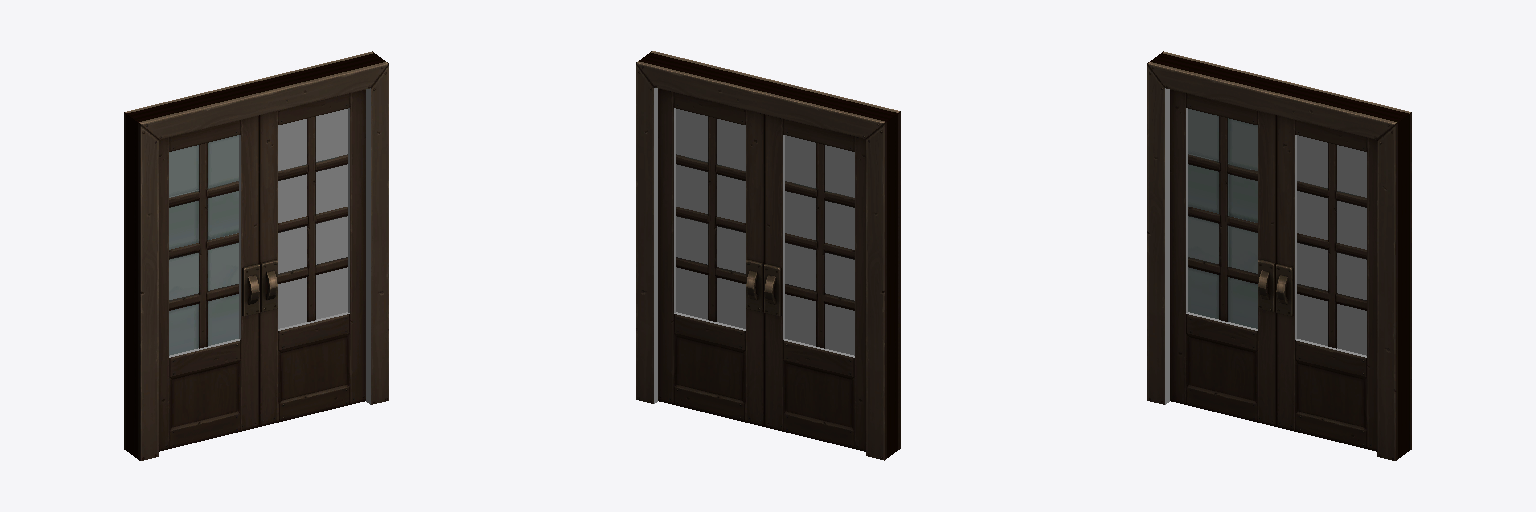
3 views of the same model, side by side, from view 1: azimuth 30°, elevation 25°; view 2: azimuth 150°, elevation 25°; view 3: azimuth 330°, elevation 25° (orthographic).
Visible parts, largest first — view 1: s4studio_mesh_1, s4studio_mesh_8, s4studio_mesh_6, s4studio_mesh_2, s4studio_mesh_0; view 2: s4studio_mesh_2, s4studio_mesh_7, s4studio_mesh_5, s4studio_mesh_1, s4studio_mesh_0; view 3: s4studio_mesh_1, s4studio_mesh_6, s4studio_mesh_8, s4studio_mesh_2, s4studio_mesh_0.
Boxes of the visible parts, x1,y1,x2,y2 form: s4studio_mesh_1: [132, 57, 388, 460]; s4studio_mesh_8: [169, 135, 238, 355]; s4studio_mesh_6: [278, 109, 347, 328]; s4studio_mesh_2: [124, 51, 378, 454]; s4studio_mesh_0: [169, 88, 370, 404]; s4studio_mesh_2: [636, 57, 891, 460]; s4studio_mesh_7: [785, 135, 854, 355]; s4studio_mesh_5: [676, 109, 745, 328]; s4studio_mesh_1: [645, 51, 900, 454]; s4studio_mesh_0: [654, 88, 854, 403]; s4studio_mesh_1: [1147, 57, 1403, 460]; s4studio_mesh_6: [1297, 135, 1366, 355]; s4studio_mesh_8: [1188, 109, 1257, 328]; s4studio_mesh_2: [1157, 51, 1411, 454]; s4studio_mesh_0: [1165, 88, 1366, 404].
Size of the model in its own units: 1.76 by 2.28 by 0.2185.
7 materials, 3 textured.